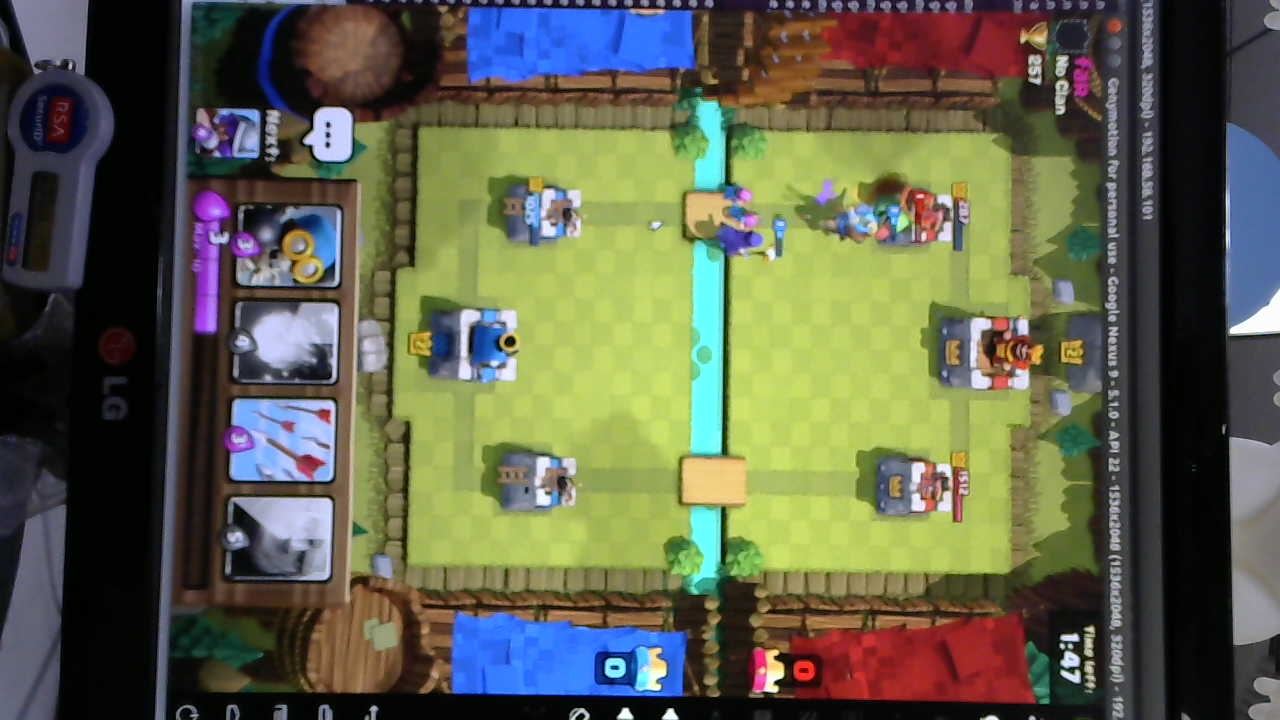archers: (716, 178, 766, 232)
arena: (499, 448, 584, 513), (503, 182, 587, 244)
dragon: (867, 188, 909, 247)
earena: (871, 455, 955, 521), (886, 188, 959, 254)
eking: (935, 311, 1043, 396)
king: (430, 302, 522, 386)
prince: (811, 208, 876, 245)
witch: (707, 219, 778, 262)
